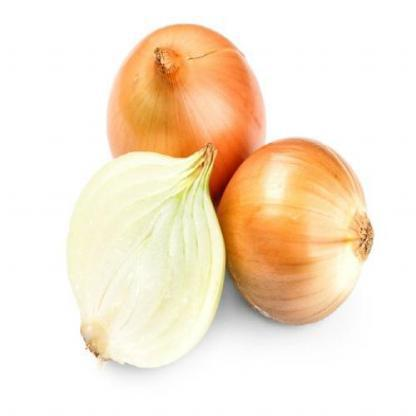onion: (42, 142, 230, 390), (218, 118, 382, 326), (109, 26, 260, 195)
